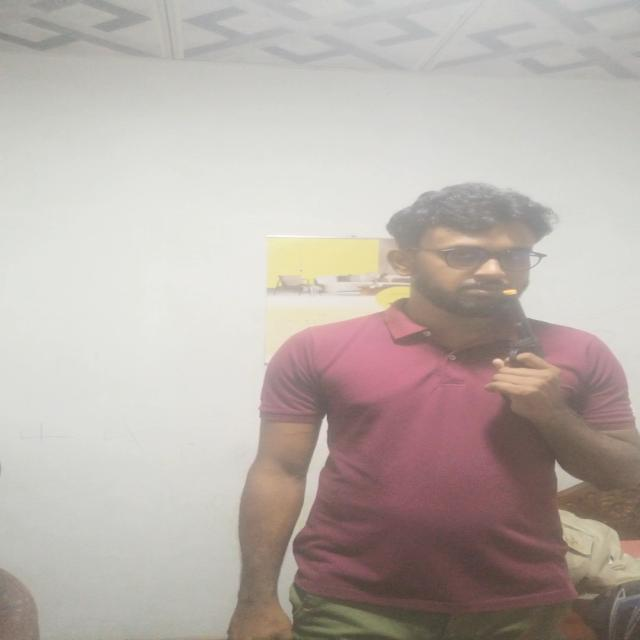Gun_Holder: (474, 282, 565, 402)
Person: (213, 181, 639, 640)
